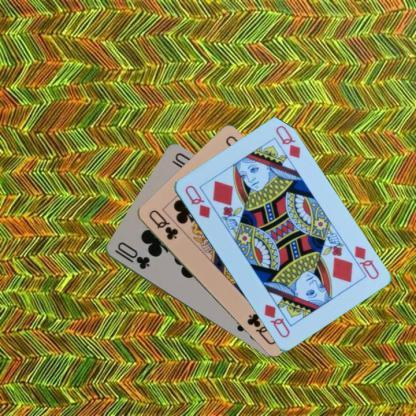10c: (111, 239, 151, 271)
Qc: (146, 206, 180, 242)
Qd: (344, 243, 380, 281), (182, 182, 212, 219)
